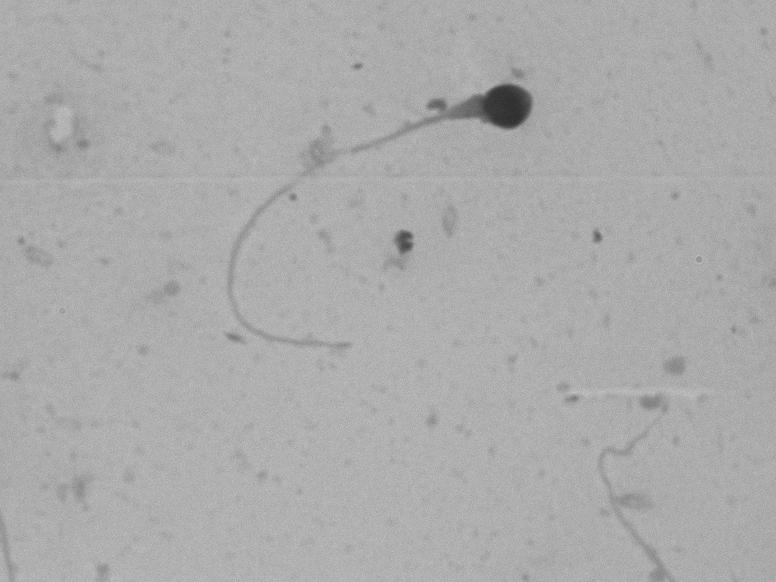Abnormal: (190, 35, 563, 370)
